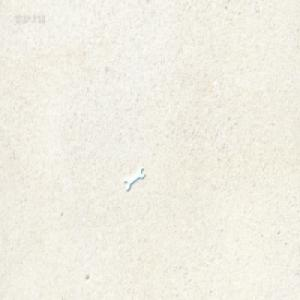Wrench: (124, 167, 145, 193)
